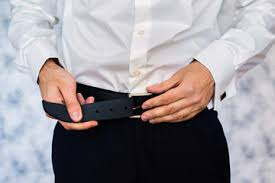F_belt: (31, 77, 222, 132)
